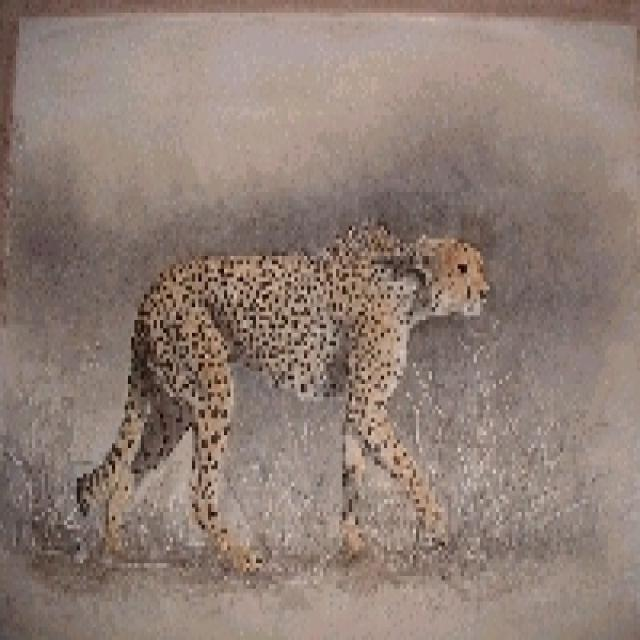Cheetah: (73, 218, 492, 562)
